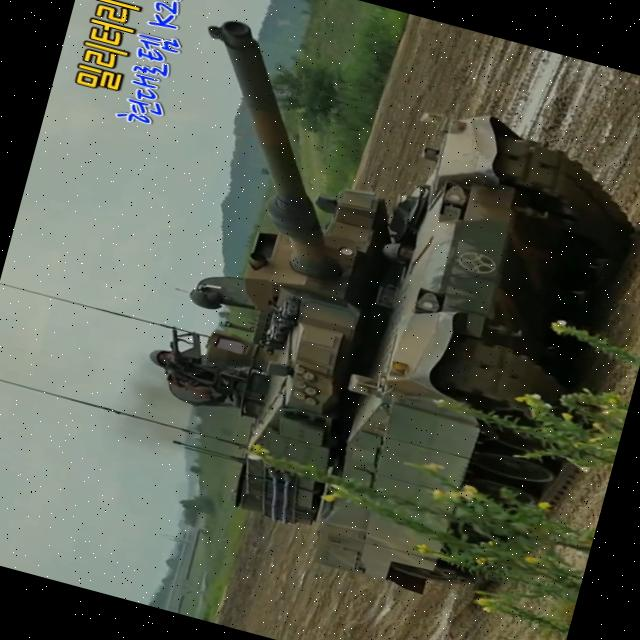korea tank: (74, 11, 640, 629)
